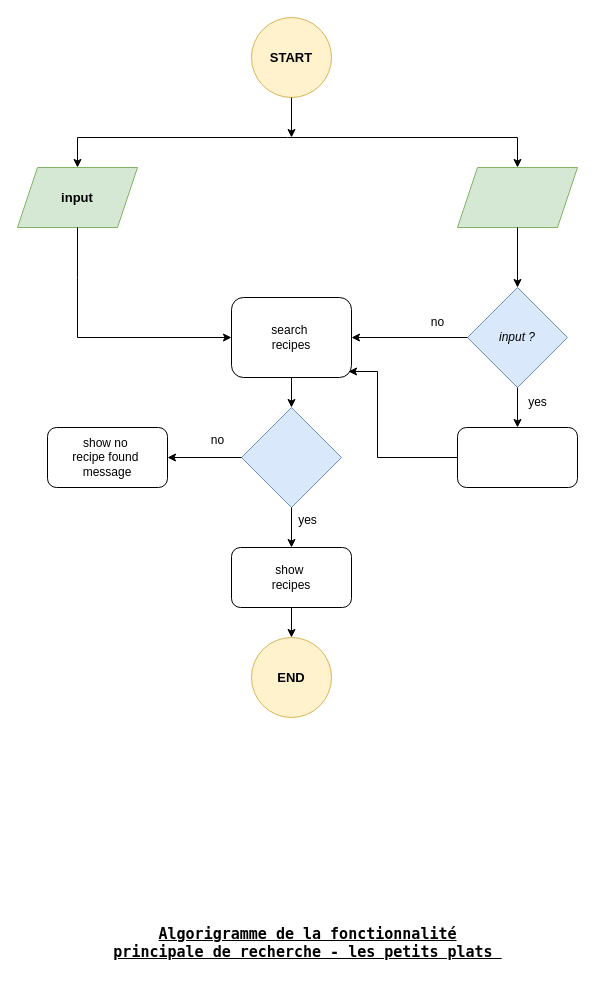
Image size: 595x985. Some labels were removed from this diagram. Here are the shapes that lost their labels. From the top down, the box of each, then its label:
(456, 166, 578, 228): filters
(240, 406, 342, 508): has results ?
(456, 426, 578, 488): add input in search
